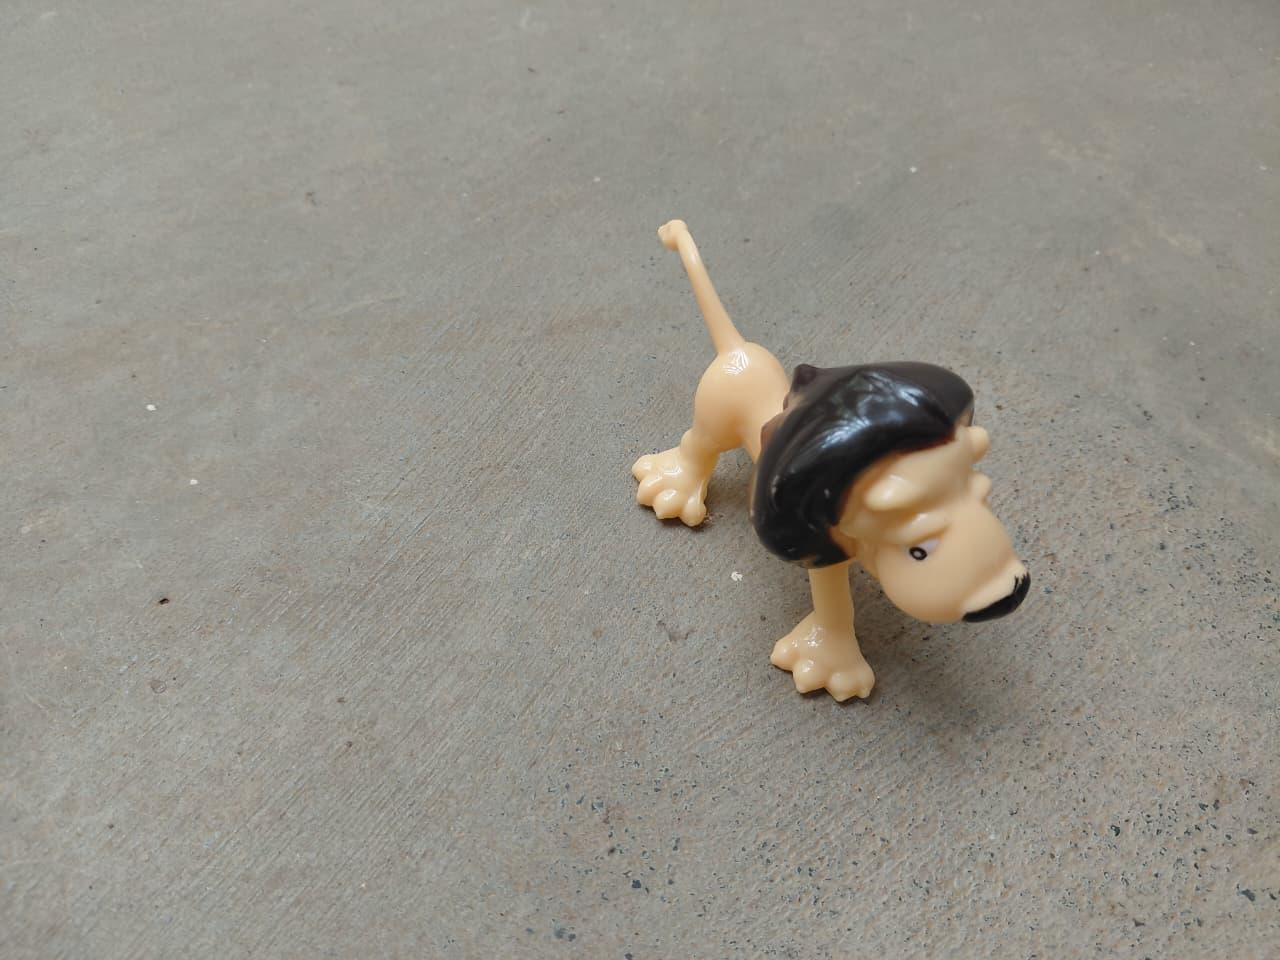lion: (624, 203, 1034, 721)
